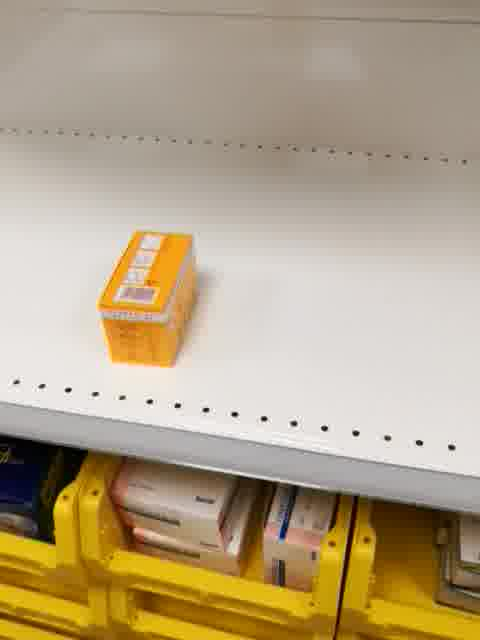jasminetea: (95, 228, 197, 369)
